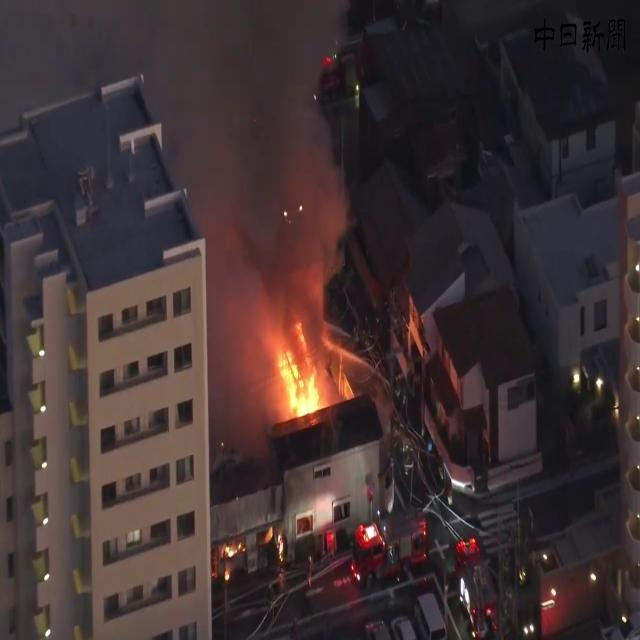Fire: (270, 334, 332, 424)
Smoke: (170, 1, 354, 347)
